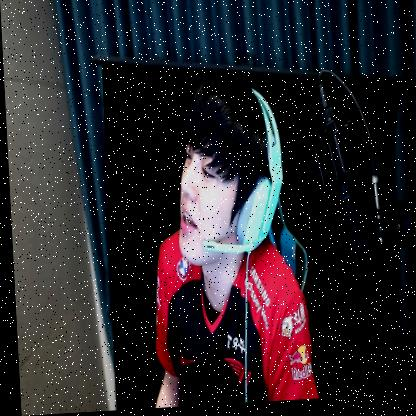streamer: (134, 66, 316, 410)
